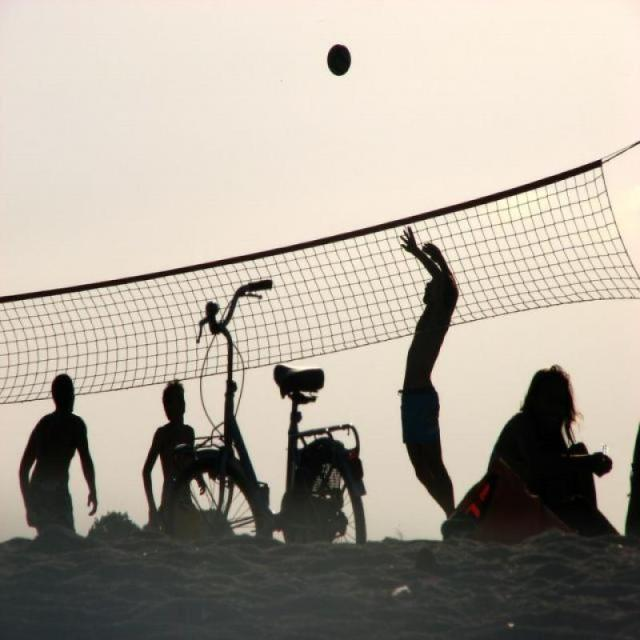volleyball: (326, 41, 350, 76)
